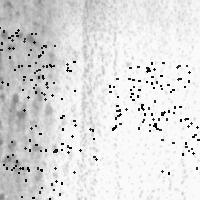pitted_surface: (1, 1, 54, 189), (78, 1, 119, 197), (123, 1, 197, 75), (128, 62, 188, 119), (35, 115, 95, 171), (18, 38, 74, 98), (0, 27, 54, 86), (13, 144, 67, 198), (109, 75, 161, 130), (155, 112, 200, 172), (0, 109, 30, 169), (0, 30, 30, 83)
